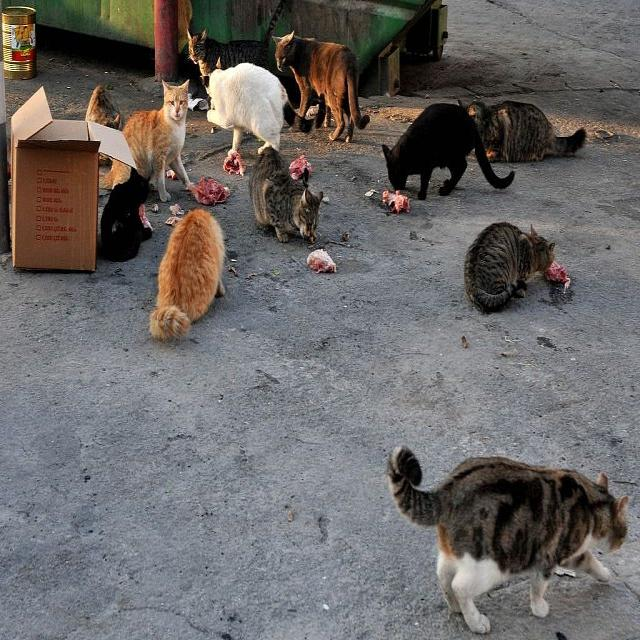cat: (386, 446, 629, 633), (382, 104, 514, 199), (272, 32, 370, 142), (150, 208, 225, 340), (122, 80, 190, 201), (464, 222, 555, 311), (249, 146, 324, 244), (466, 100, 586, 161), (208, 62, 289, 150), (100, 168, 152, 262), (189, 30, 268, 86), (85, 84, 121, 129), (111, 162, 130, 187)
